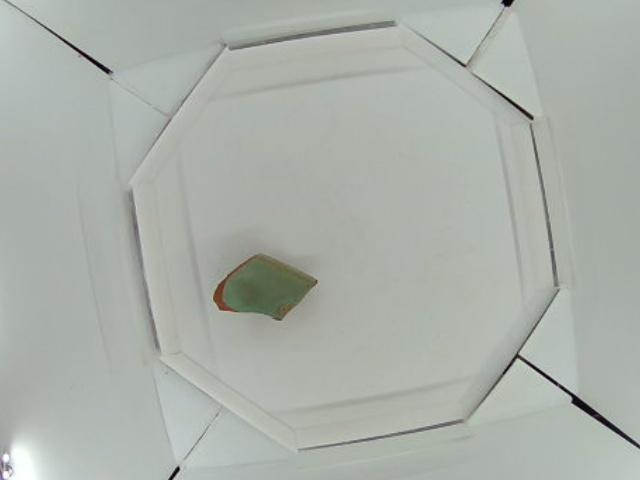China: (212, 252, 318, 318)
